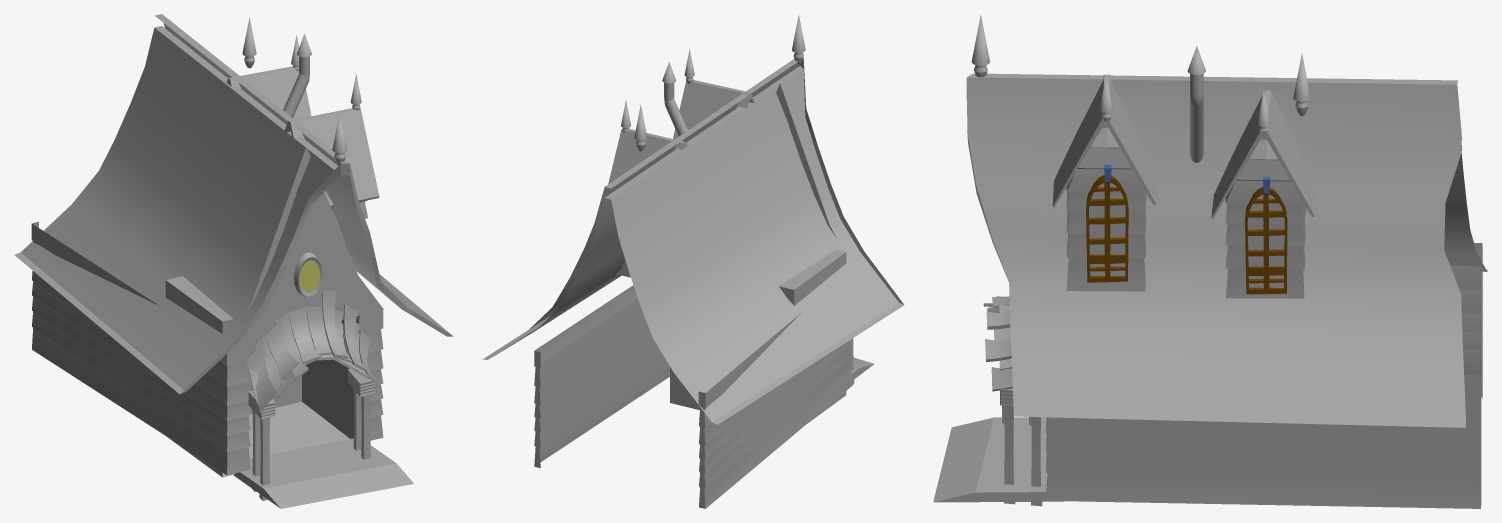
3 views of the same model, side by side, from view 1: azimuth 30°, elevation 25°; view 2: azimuth 150°, elevation 25°; view 3: azimuth 270°, elevation 25° (orthographic). The views are drawn at different scales.
Parts seen in each view (by area): view 1: pCone6; view 2: pCone6; view 3: pCone6.
Boxes of the visible parts, x1=… form: pCone6: x1=14, y1=14, x2=453, y2=508; pCone6: x1=482, y1=14, x2=904, y2=508; pCone6: x1=933, y1=14, x2=1487, y2=508.
Bounding box in the file's own units: 0.1916 × 0.2448 × 0.2648.
